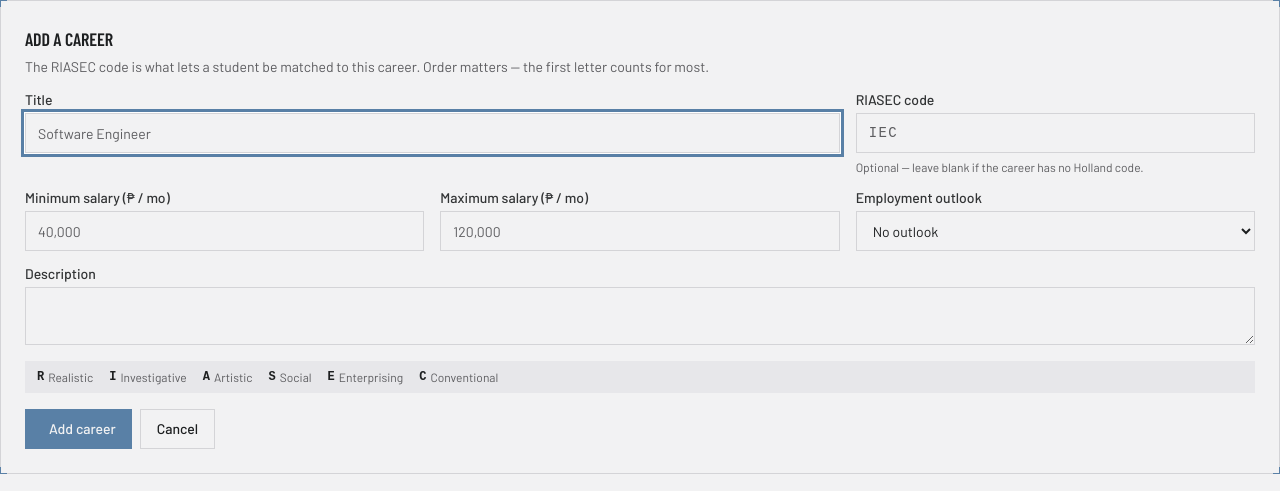
Scenario: CareerForm › caps the code at three letters
This screenshot has width=1280, height=491.
Type "IECS" into the field labelled "RIASEC code" at {"x": 1055, "y": 133}, box [856,113,1255,153]
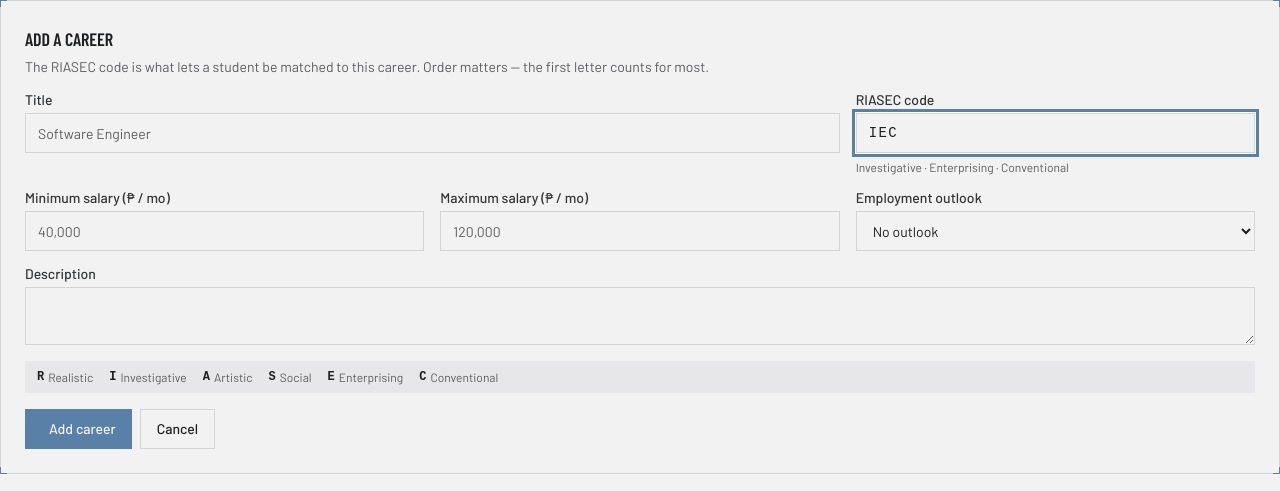
Now the field labelled "RIASEC code" holds "IEC", box [856,113,1255,153]
